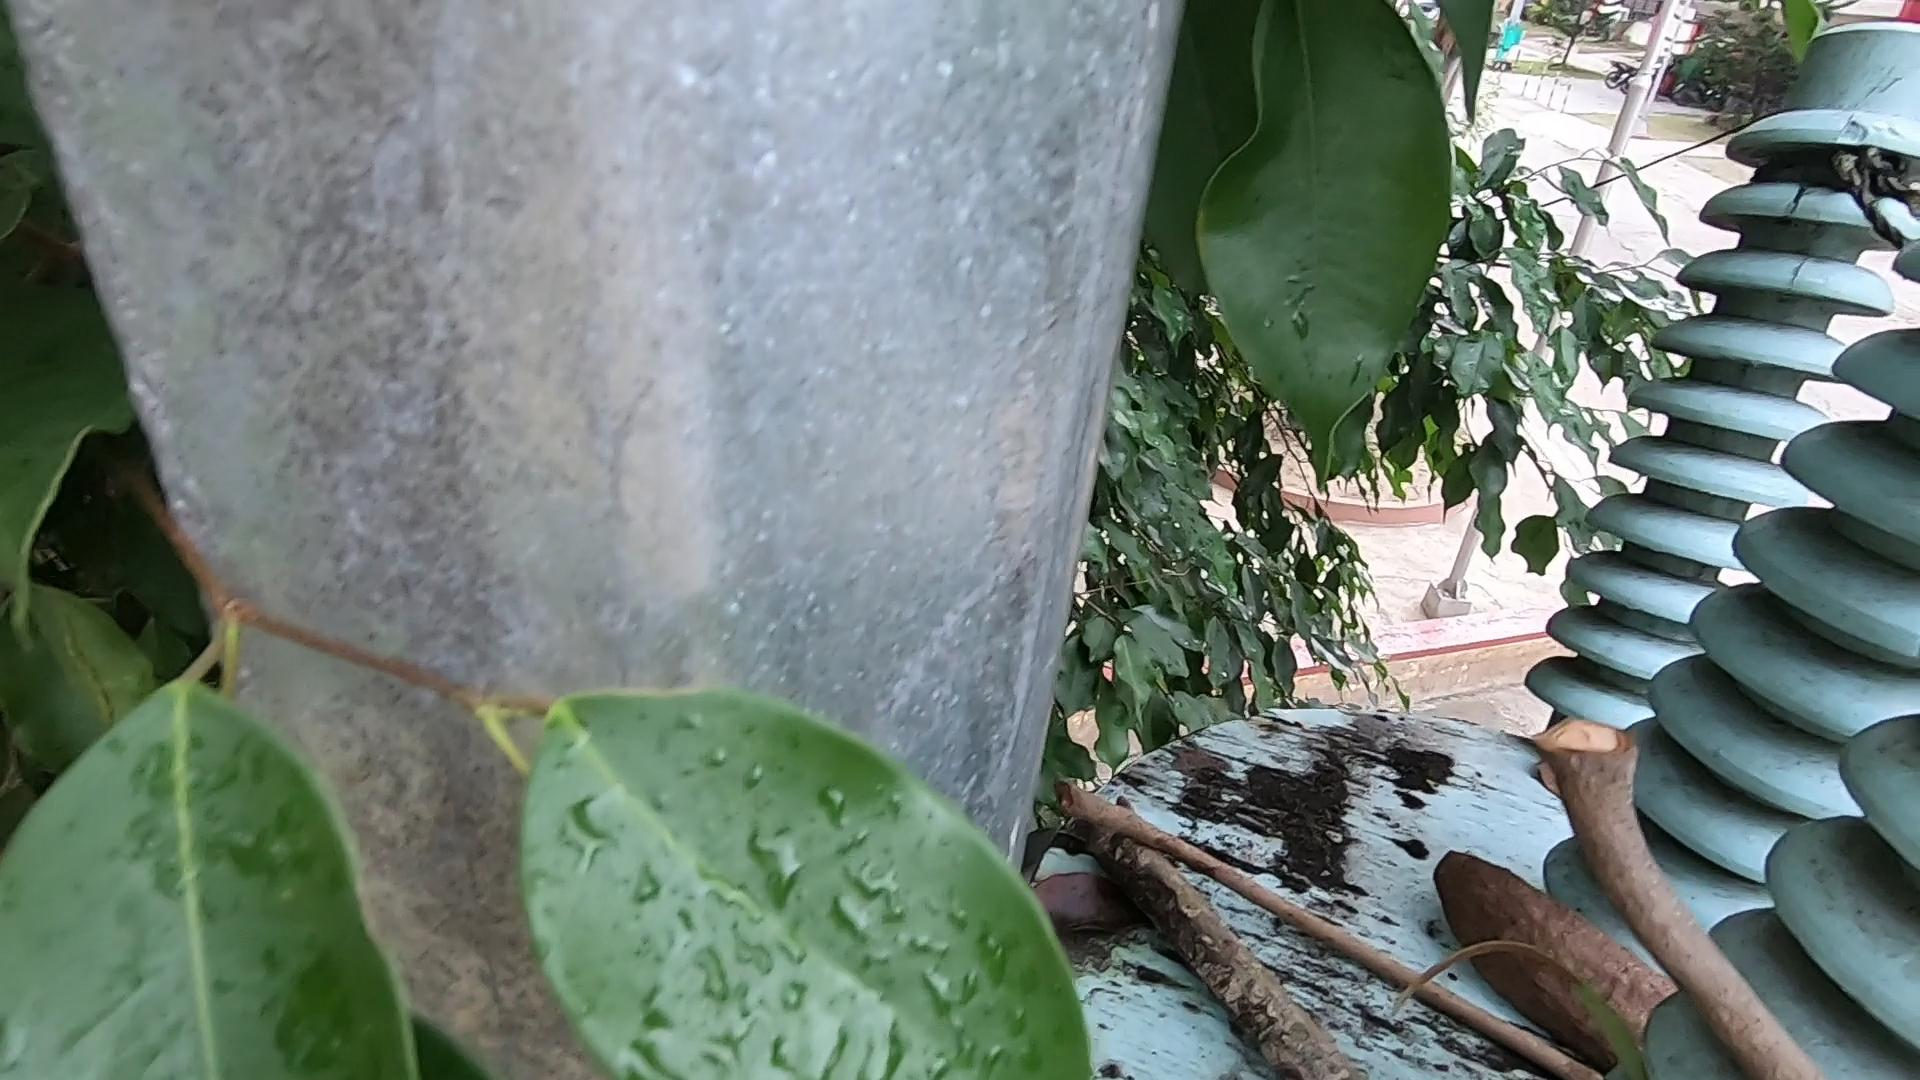branch with leaves: (1062, 781, 1360, 1080)
leaf: (1387, 938, 1662, 1080), (1006, 862, 1143, 936)
mahogany fruit: (1441, 822, 1677, 1067)
tree branch: (1051, 775, 1606, 1077), (1524, 707, 1838, 1080)
